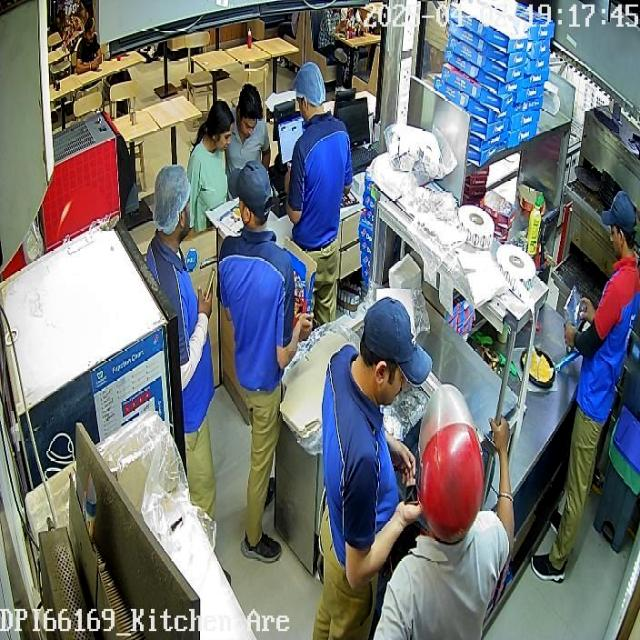helmet: (418, 384, 484, 545)
no_helmet: (351, 298, 433, 407), (153, 165, 192, 253), (228, 160, 272, 232), (601, 190, 638, 258), (293, 61, 325, 122), (202, 100, 234, 153), (236, 83, 263, 140)
